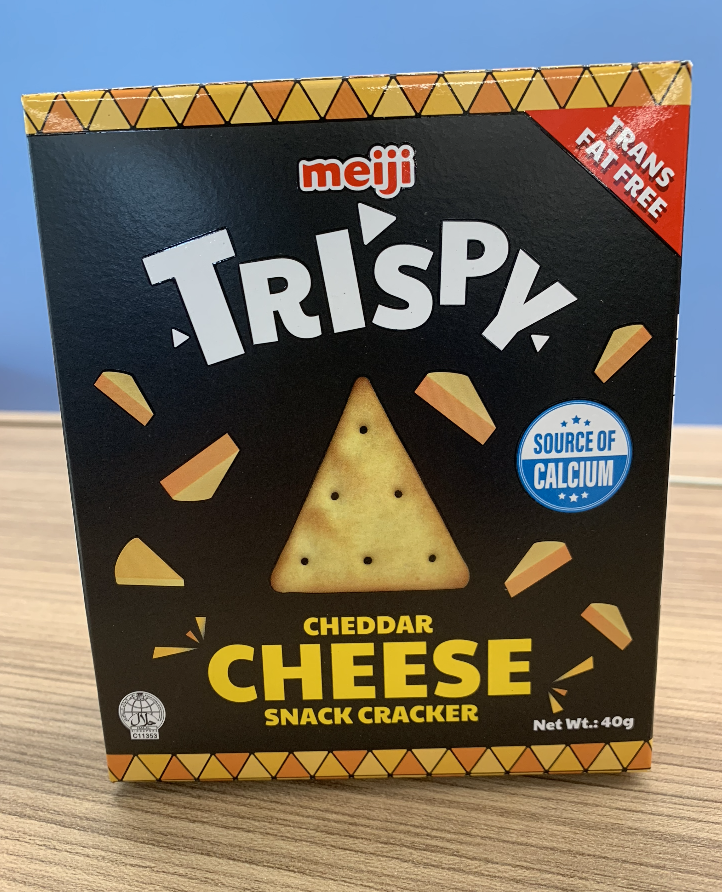crackers_1g-99g: (114, 124, 649, 750)
